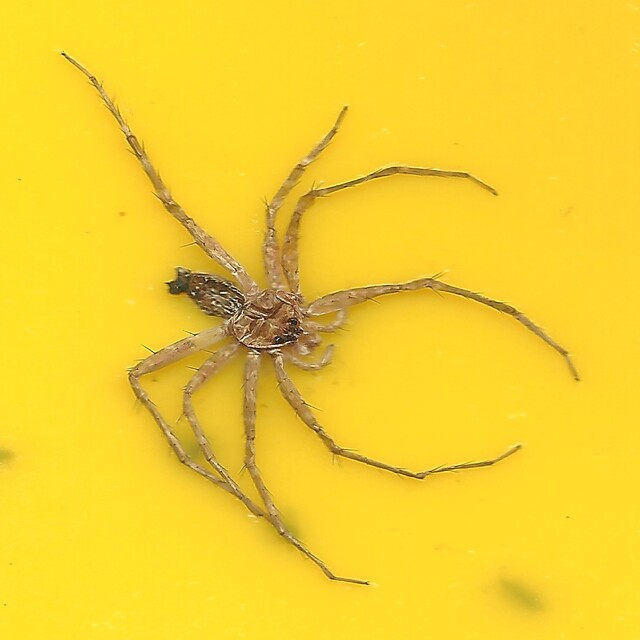Araneae: (59, 49, 581, 591)
